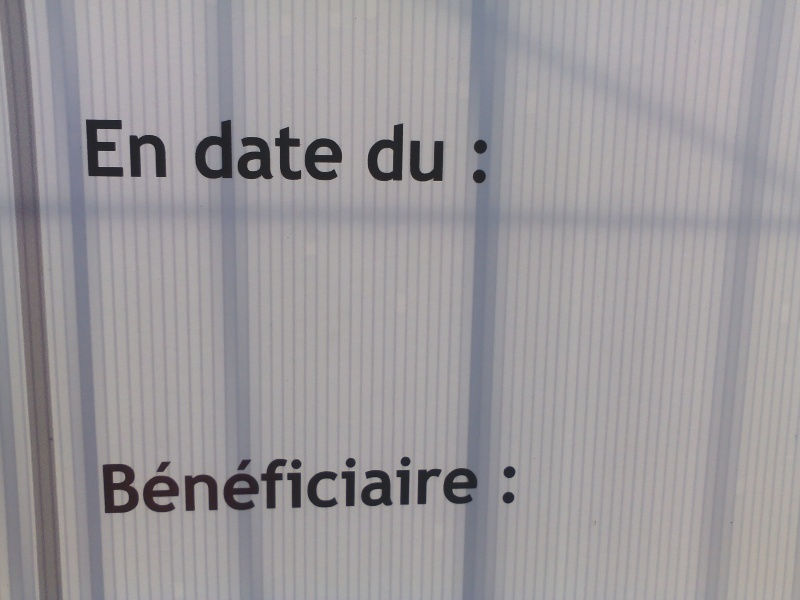text: (209, 118, 224, 183), (225, 118, 240, 183), (241, 118, 256, 183), (257, 118, 272, 183), (273, 118, 288, 183), (289, 118, 304, 183), (305, 118, 320, 183), (321, 118, 336, 183), (113, 453, 128, 515), (129, 453, 144, 515), (145, 453, 160, 515), (161, 453, 176, 515), (177, 453, 192, 515), (193, 453, 208, 515), (209, 453, 224, 515), (225, 453, 240, 515), (241, 453, 256, 515), (257, 453, 272, 515), (273, 453, 288, 515), (289, 453, 304, 515), (305, 453, 320, 515), (321, 453, 336, 515), (337, 453, 352, 515), (353, 453, 368, 515), (369, 453, 384, 515), (385, 453, 400, 515), (401, 453, 416, 515), (417, 453, 432, 515), (433, 453, 448, 515), (449, 453, 464, 515), (97, 118, 112, 178), (113, 118, 128, 178), (129, 118, 144, 178), (145, 118, 160, 178), (369, 124, 384, 182), (385, 124, 400, 182), (401, 124, 416, 182), (417, 124, 432, 182), (465, 453, 479, 515), (195, 118, 208, 183), (84, 118, 96, 178), (433, 124, 445, 182), (101, 453, 112, 515), (481, 135, 491, 186), (161, 118, 168, 178), (337, 118, 343, 183), (503, 465, 512, 507), (513, 465, 518, 507), (476, 135, 480, 186), (365, 124, 368, 182)
